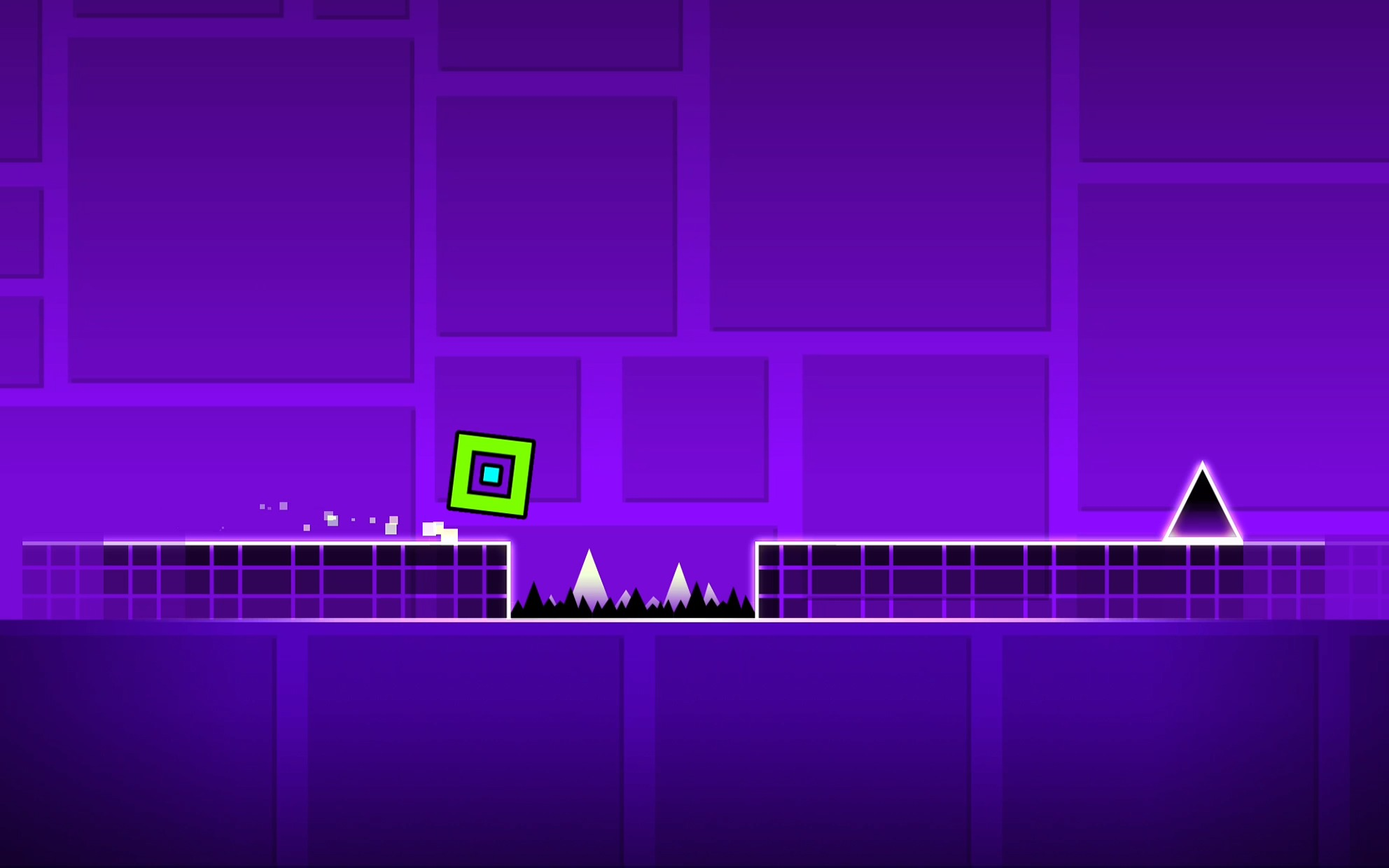Block2: (763, 543, 1381, 618), (8, 543, 508, 617)
Player: (447, 431, 534, 518)
Spike: (1164, 461, 1241, 541)
Spike3: (515, 584, 758, 623)
